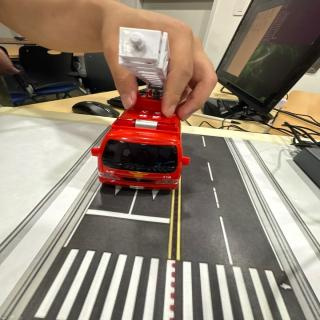Fire_truck: (92, 93, 189, 189)
